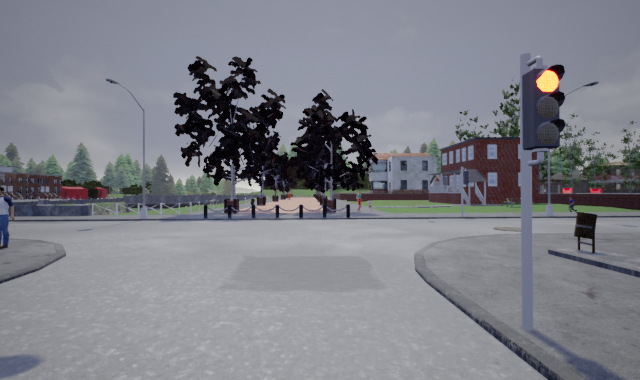pedestrian: (1, 184, 24, 249), (563, 195, 580, 213), (353, 188, 365, 211), (365, 197, 374, 211)
traffic_light: (521, 63, 566, 151)
